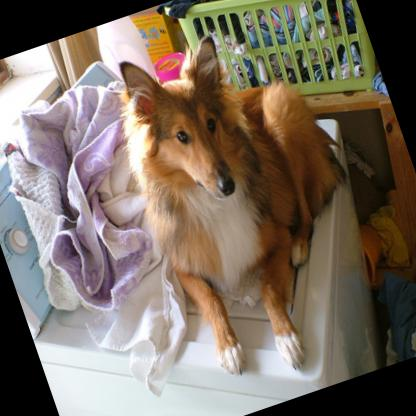Shetland_sheepdog: (91, 0, 403, 404)
